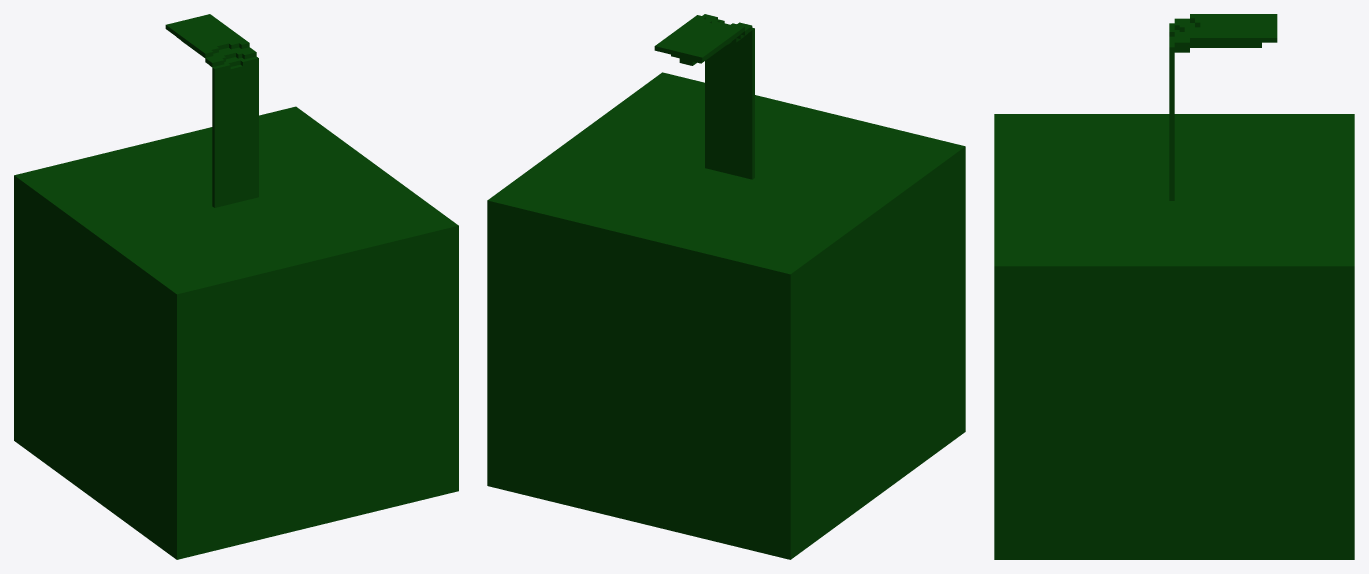
Rendered from Tox.obj.
The picture shows the model from 3 angles, left to right: view 1: azimuth 30°, elevation 25°; view 2: azimuth 150°, elevation 25°; view 3: azimuth 270°, elevation 25°; orthographic projection. The views are drawn at different scales.
Size of the model in its own units: 7 by 9.8 by 7.
Materials: 1 (1 with a texture image).
